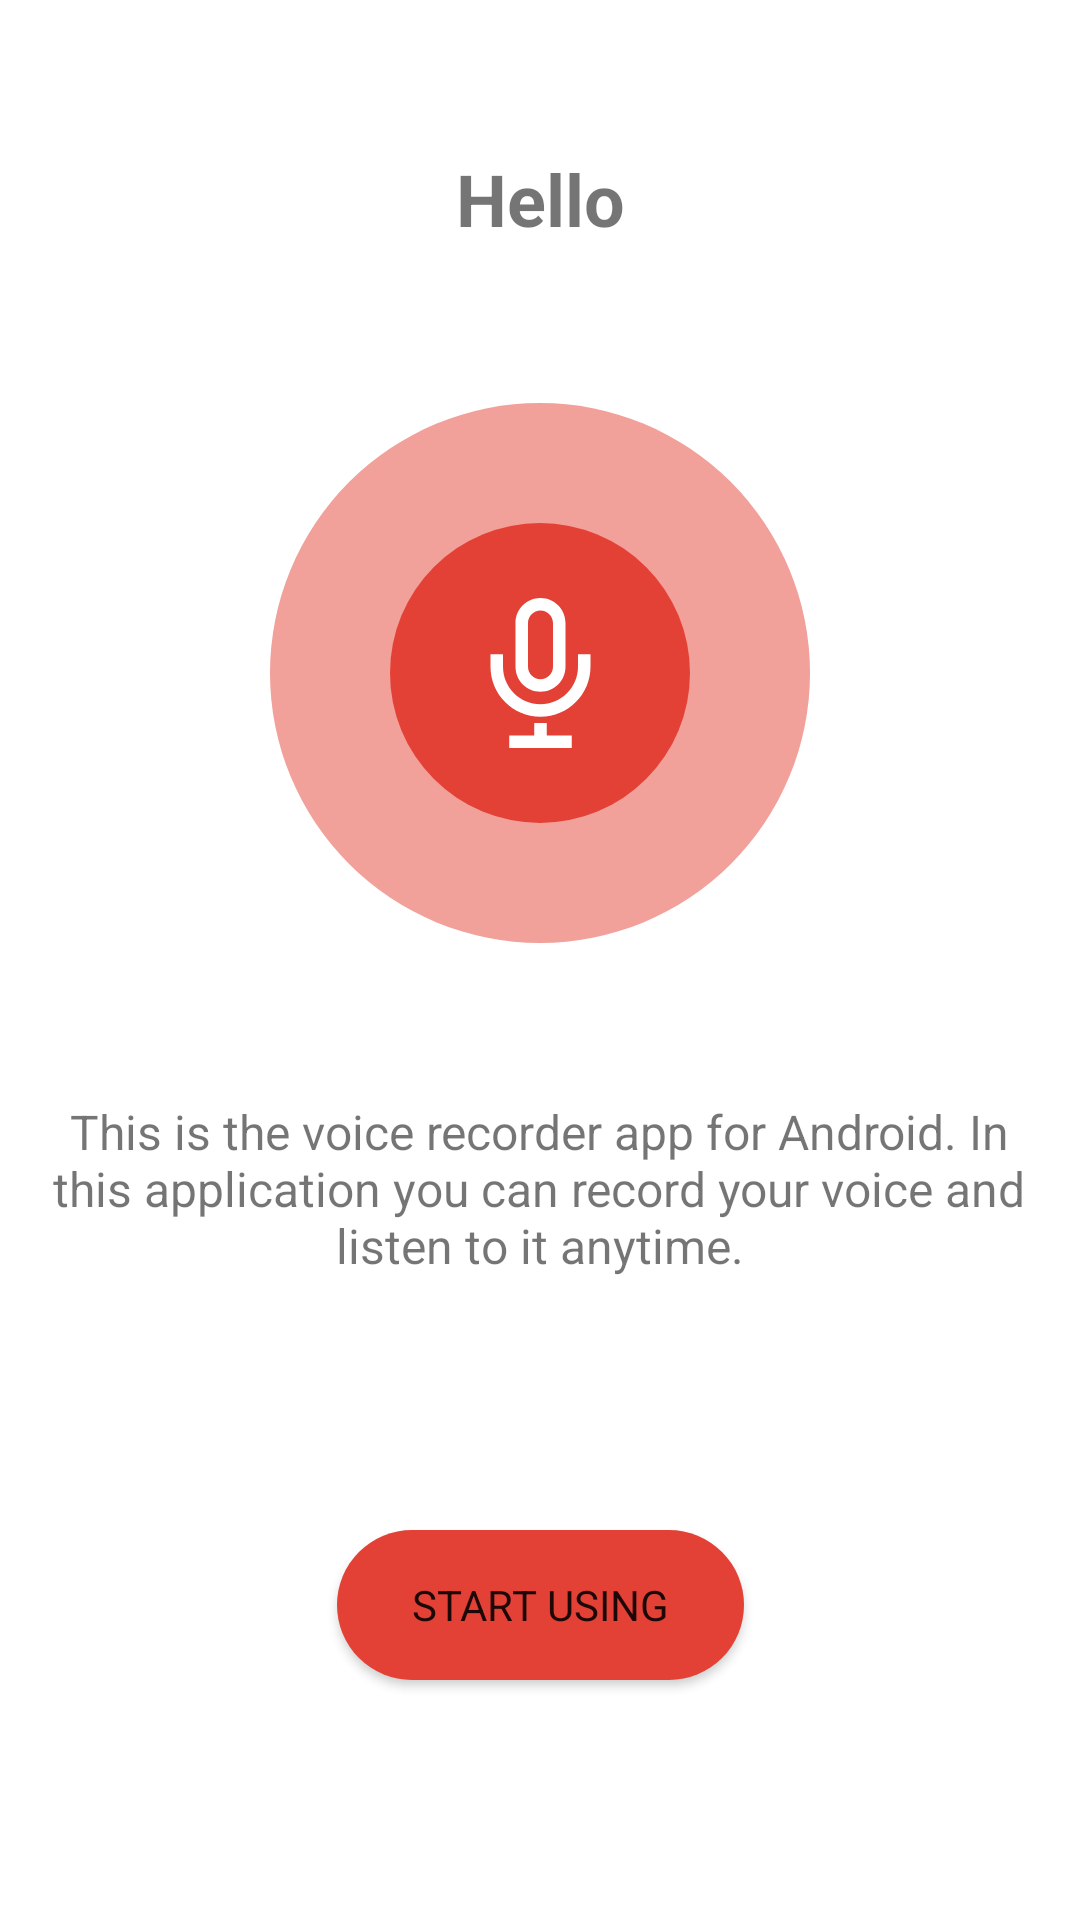

Screen size 1080 x 1920. Icon name, then its center in pixels as [x,y]:
microphone: [540,673]
